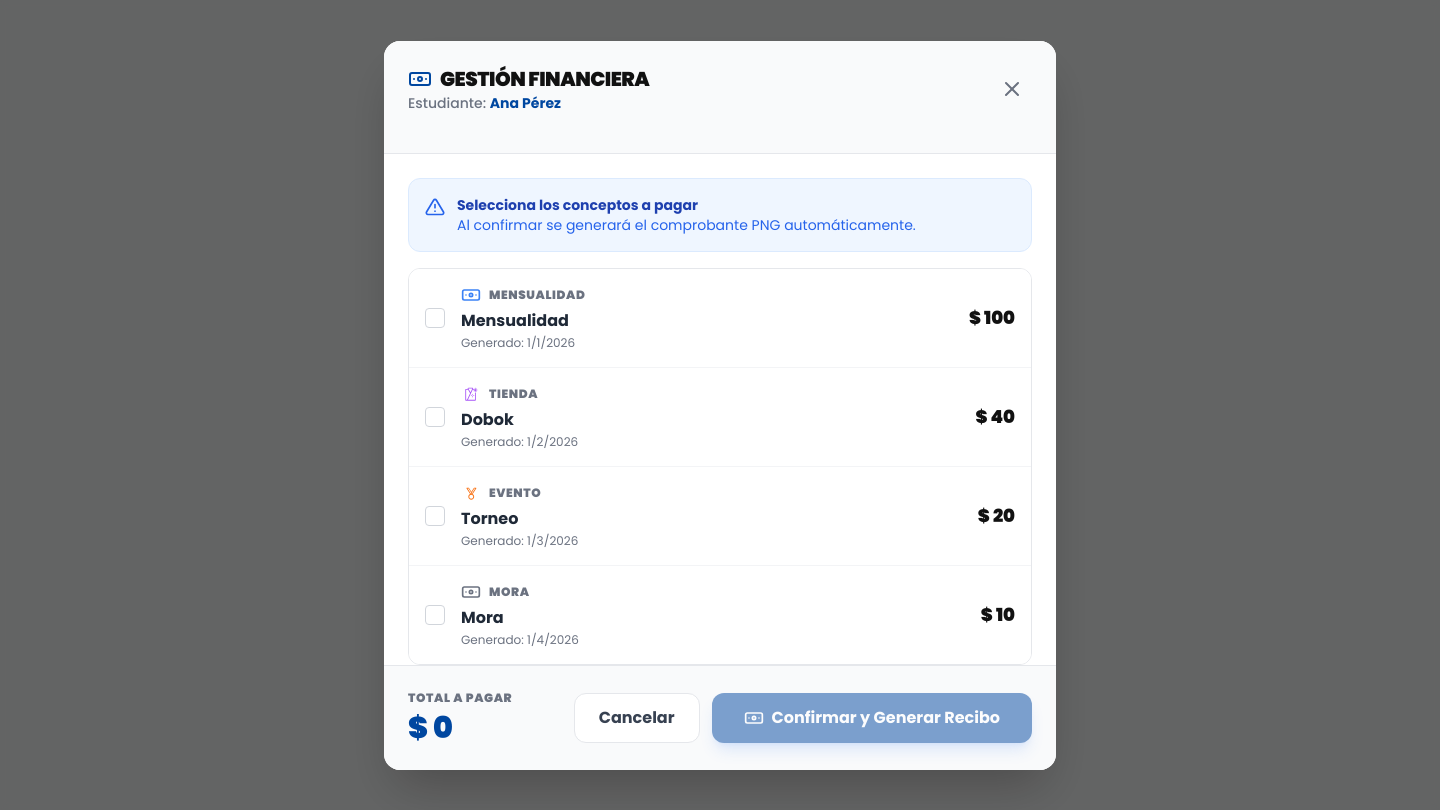
Test case: ModalRegistrarPago › carga y renderiza deudas, tipos y total seleccionado
Check: the text "Dobok" is shown, box [461,408,514,430]
Click the 2nd text "Mensualidad" at (515, 320), box [461,308,569,332]
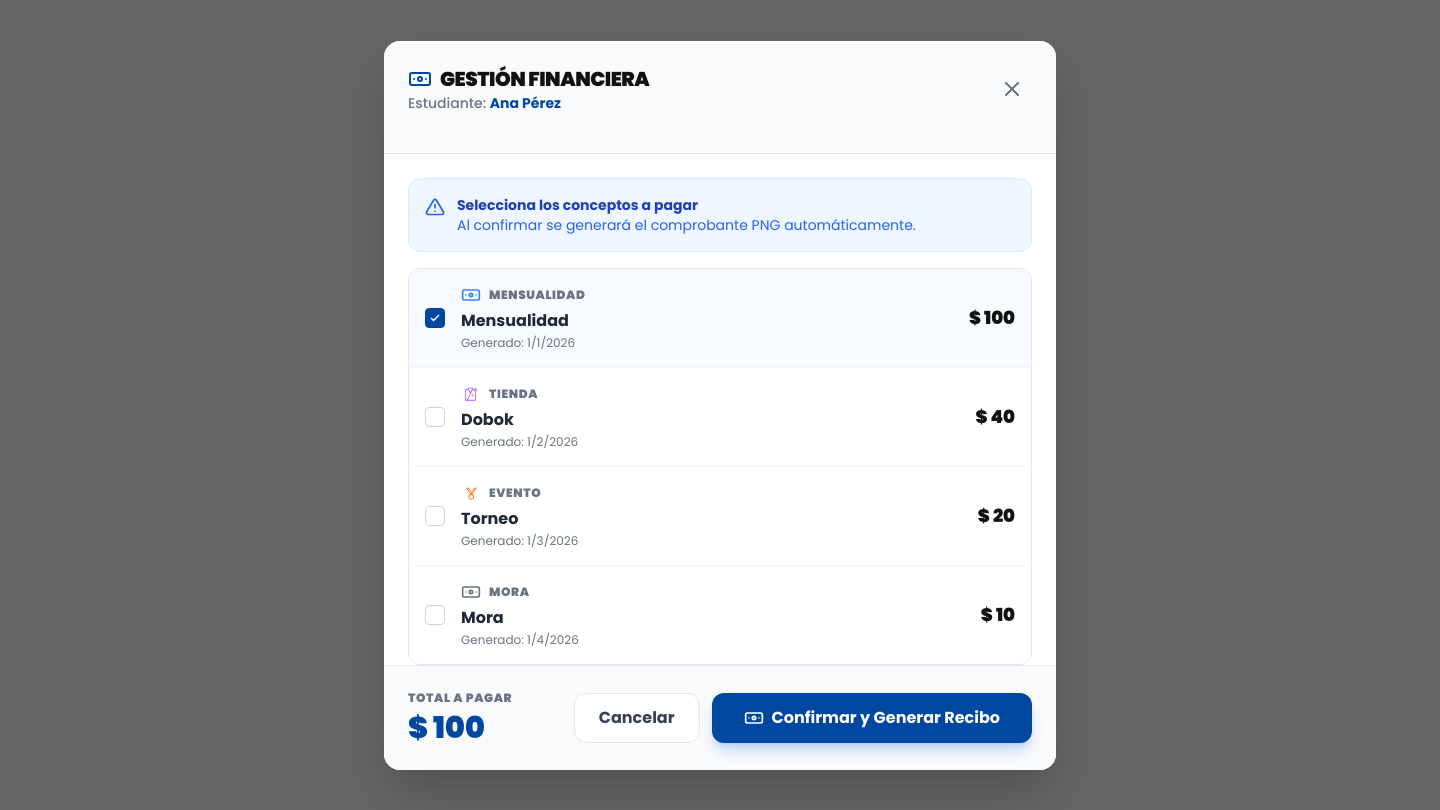
Check: the text "$ 100" is shown 2 times, box [969,304,1015,332]; [408,706,485,748]
Click the 2nd text "Mensualidad" at (515, 320), box [461,308,569,332]
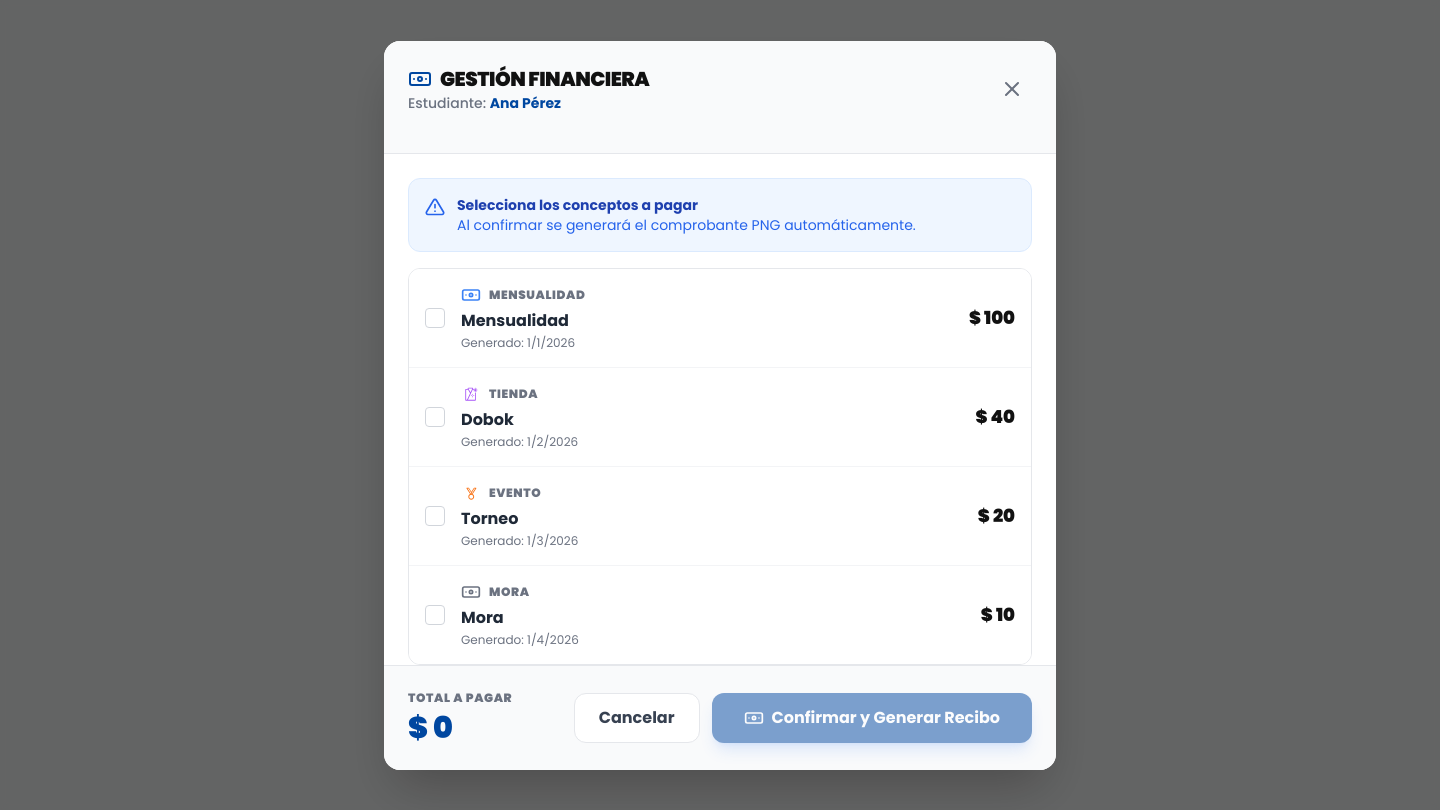
Check: the button "Confirmar y Generar Recibo" is disabled, box [712,692,1032,742]
